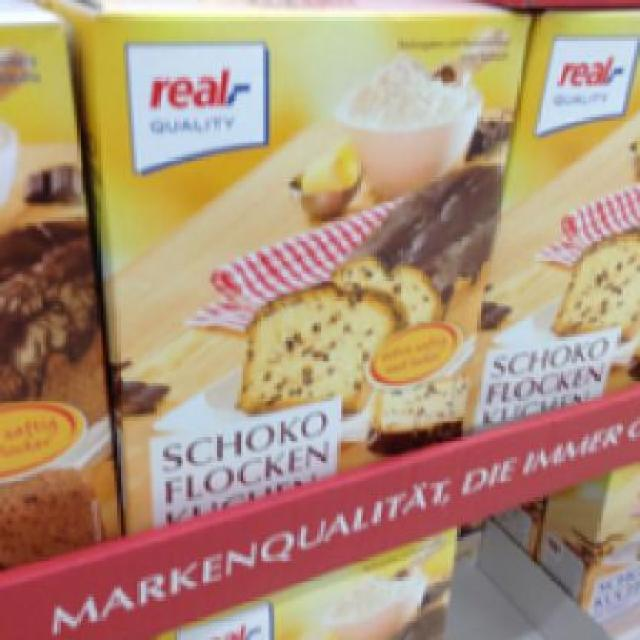Cake: (57, 0, 530, 543)
